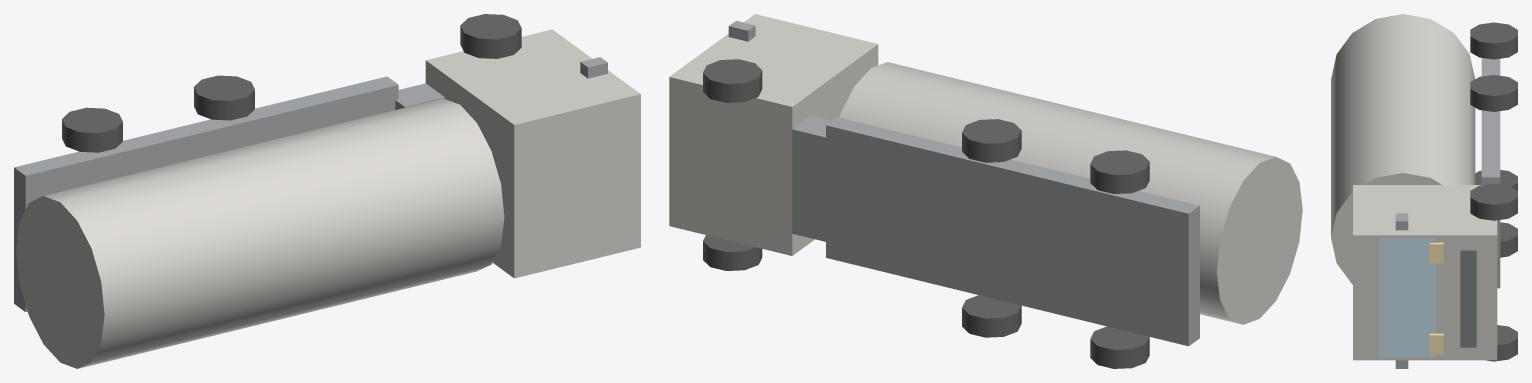
The model's file is tanker.glb.
3 renders of one model, left to right at view 1: azimuth 30°, elevation 25°; view 2: azimuth 150°, elevation 25°; view 3: azimuth 270°, elevation 25°, orthographic. The views are drawn at different scales.
Visible parts, largest first — view 1: tanker; view 2: tanker; view 3: tanker.
Boxes of the visible parts, x1=… form: tanker: x1=14, y1=14, x2=640, y2=368; tanker: x1=669, y1=14, x2=1302, y2=368; tanker: x1=1331, y1=14, x2=1517, y2=368.
Size of the model in its own units: 8.31 by 2.86 by 2.98.
